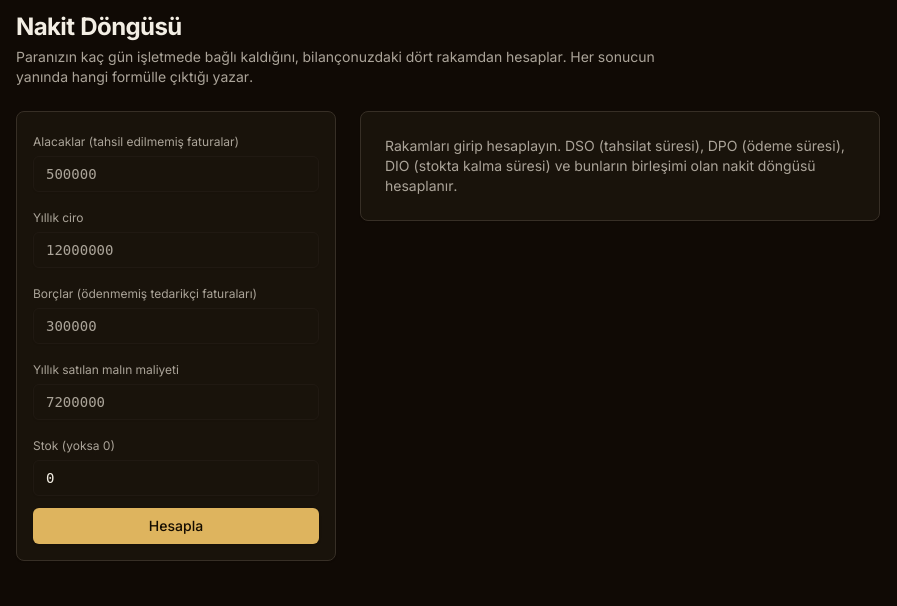
Test case: Nakit Döngüsü › says so when the request fails
Type "60000" into the number field labelled "Alacaklar (tahsil edilmemiş faturalar)".
click(176, 174); type("60000")  # box [33,156,319,192]
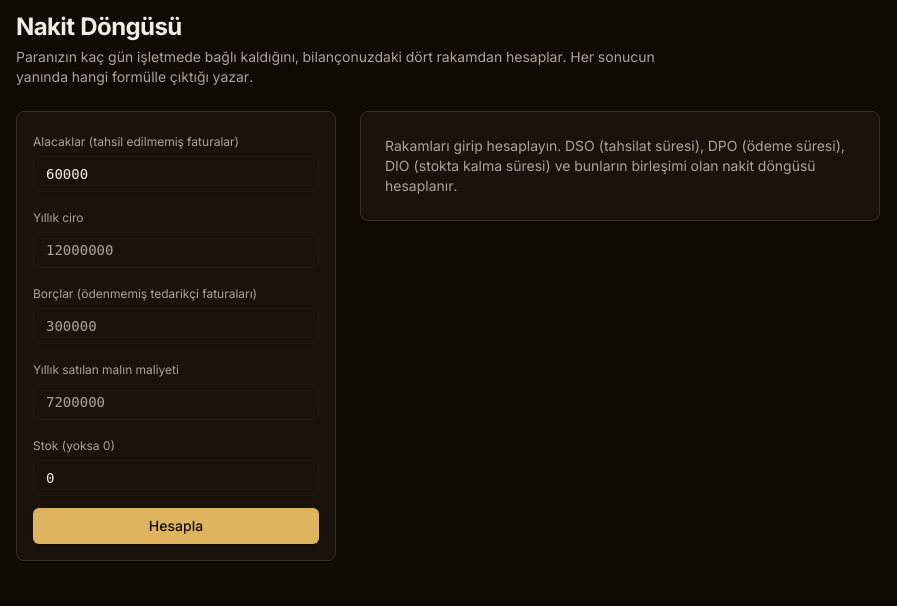
Type "365000" into the number field labelled "Yıllık ciro".
click(176, 250); type("365000")  # box [33,232,319,268]
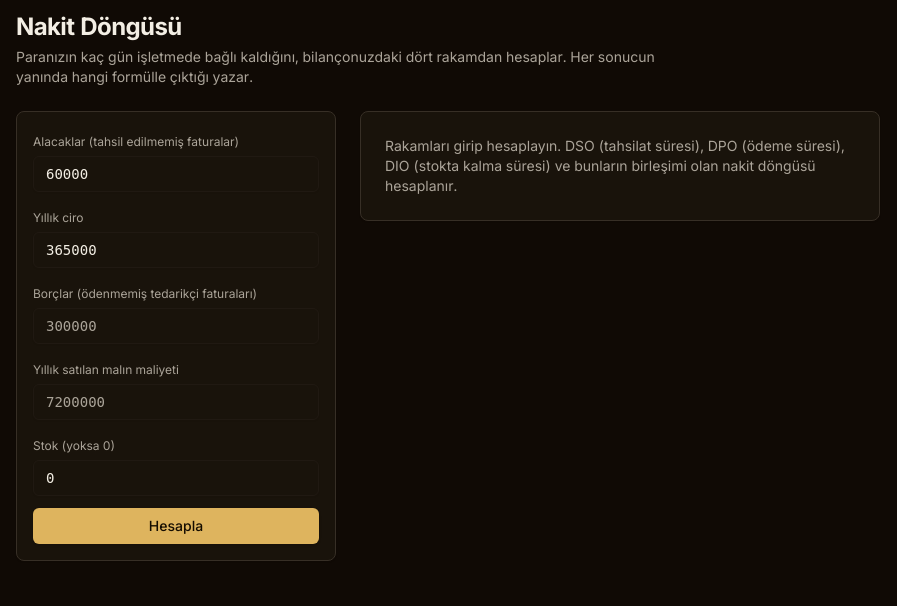
Click the button "Hesapla".
click(176, 526)  # box [33,508,319,544]
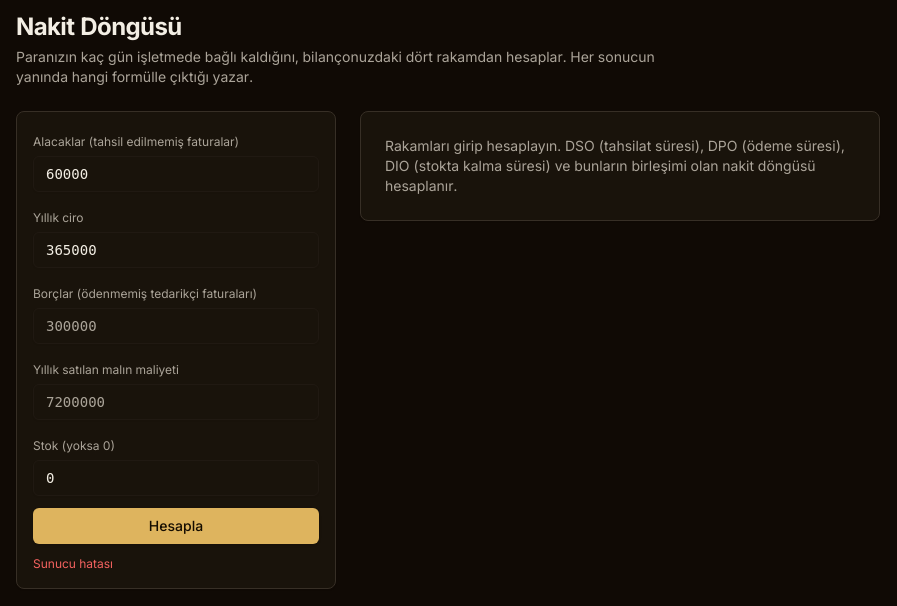
Expected: the text "Sunucu hatası" is shown, [33,556,113,571]
